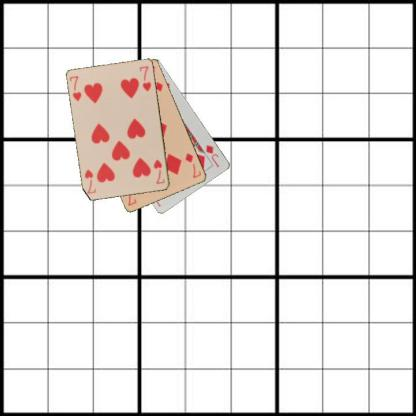7d: (182, 150, 203, 179)
7h: (151, 157, 166, 186), (68, 74, 82, 102)
Jd: (203, 142, 221, 169)
